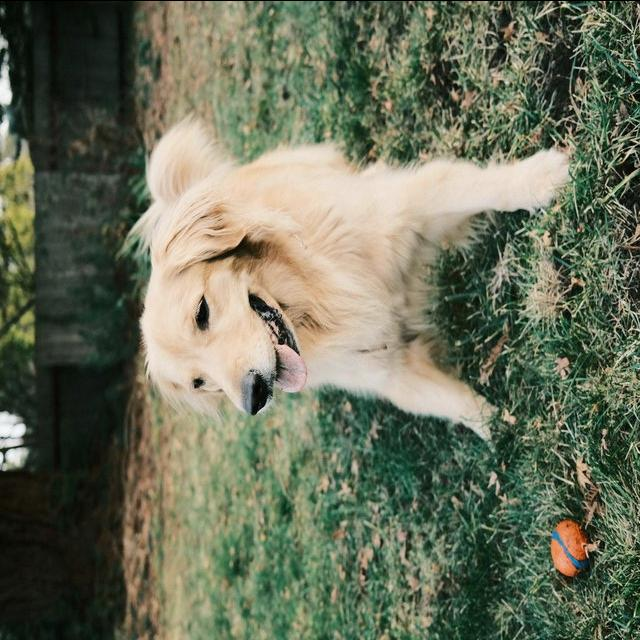retriever: (119, 113, 572, 444)
